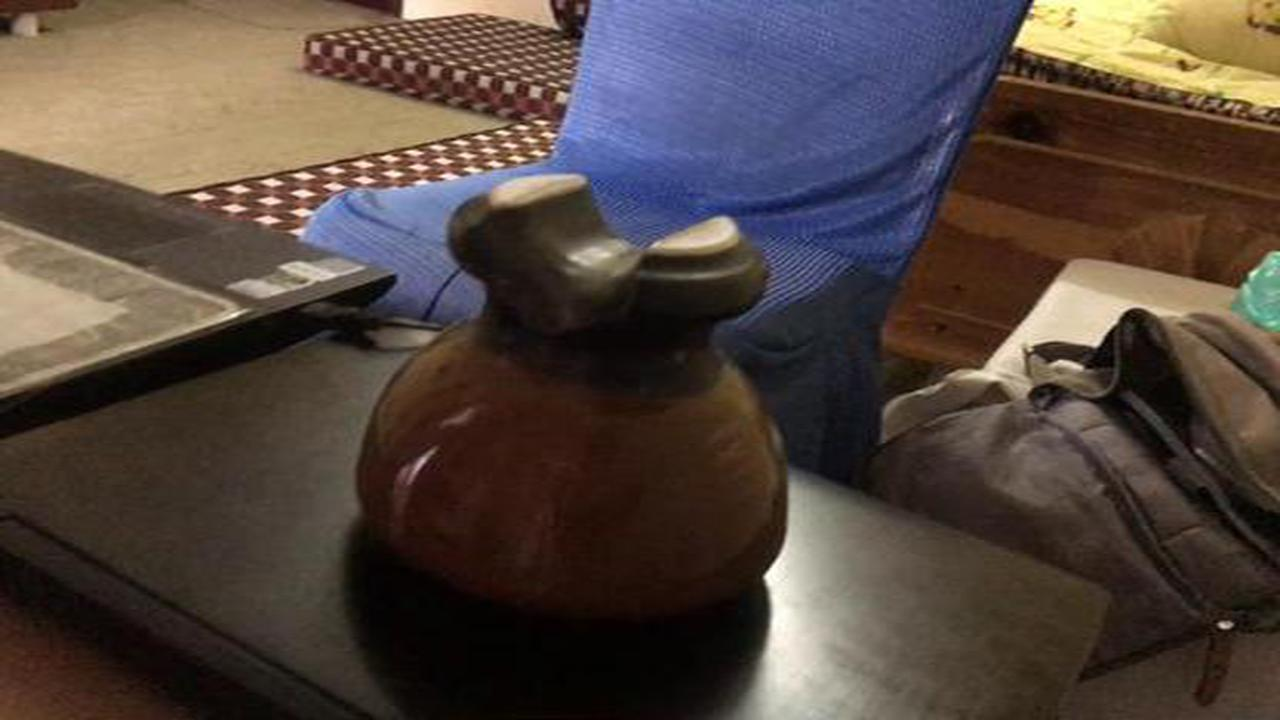insulator_pin: (339, 165, 810, 641)
